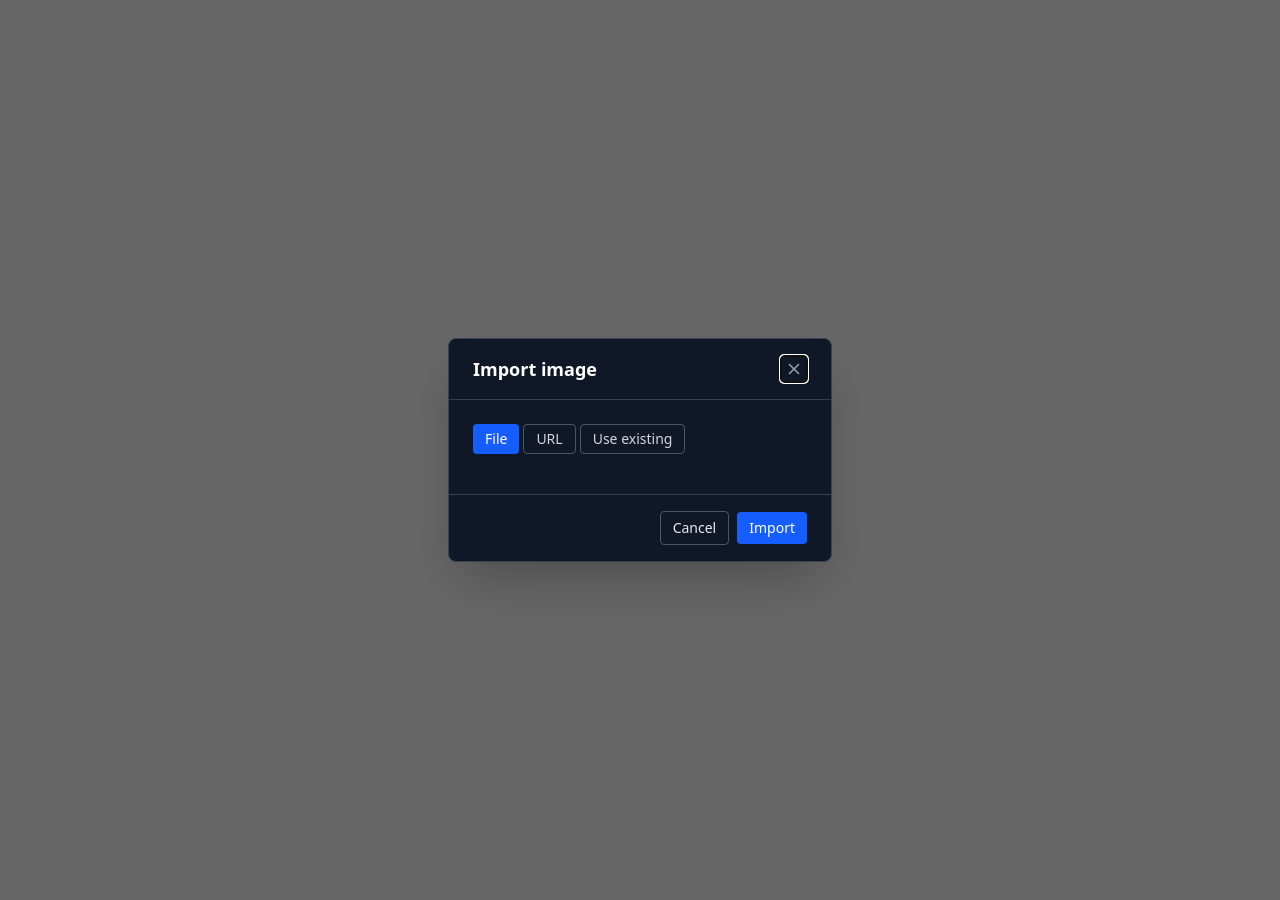
Test: ImageImportDialog — use existing (phase 9 W3) › shows an empty state when the library has no images
This screenshot has width=1280, height=900.
Step 1. Click the tab "Use existing" → (633, 439), box [580, 424, 686, 454]
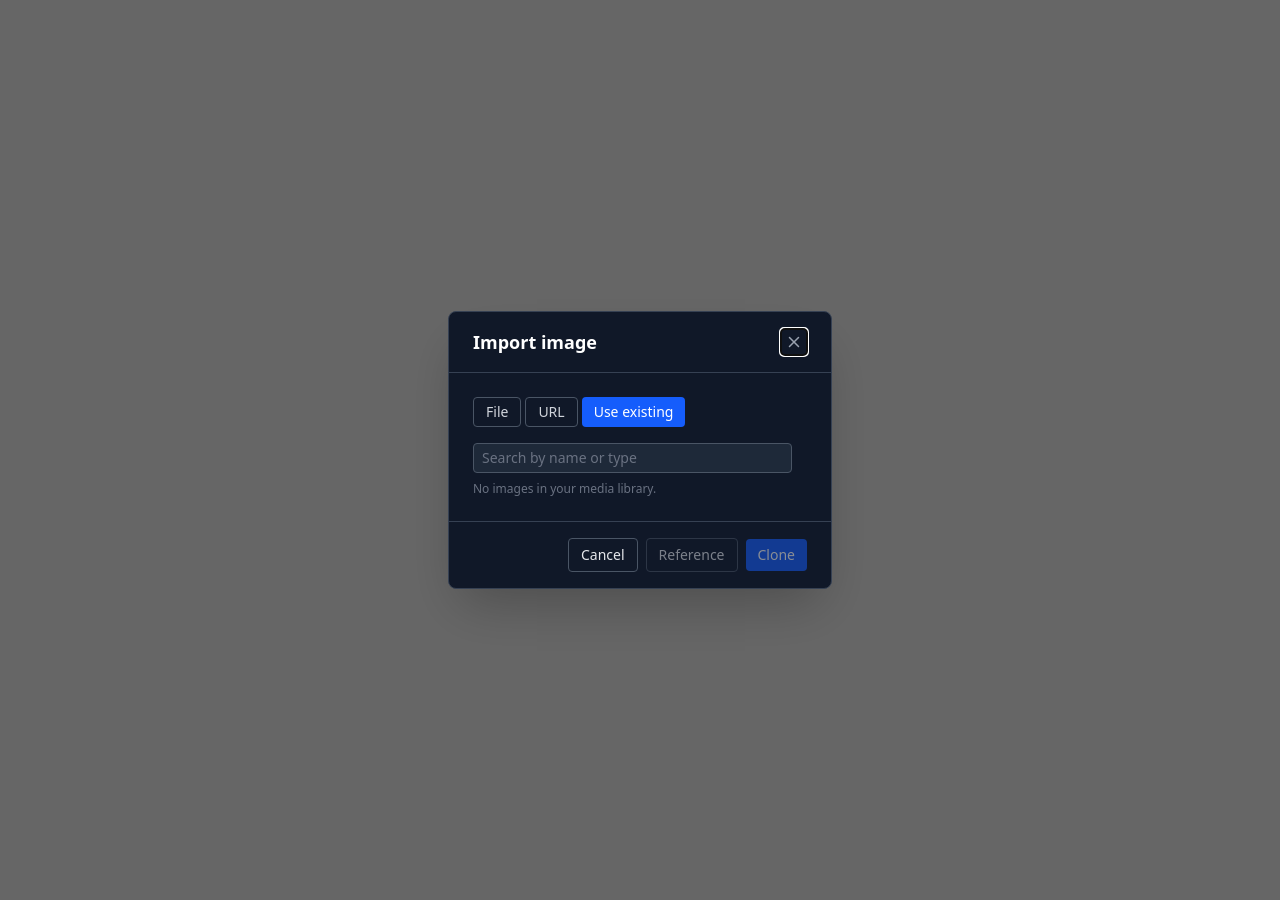
Expected: the text "No images in your media library." is shown, [473, 480, 656, 497]
